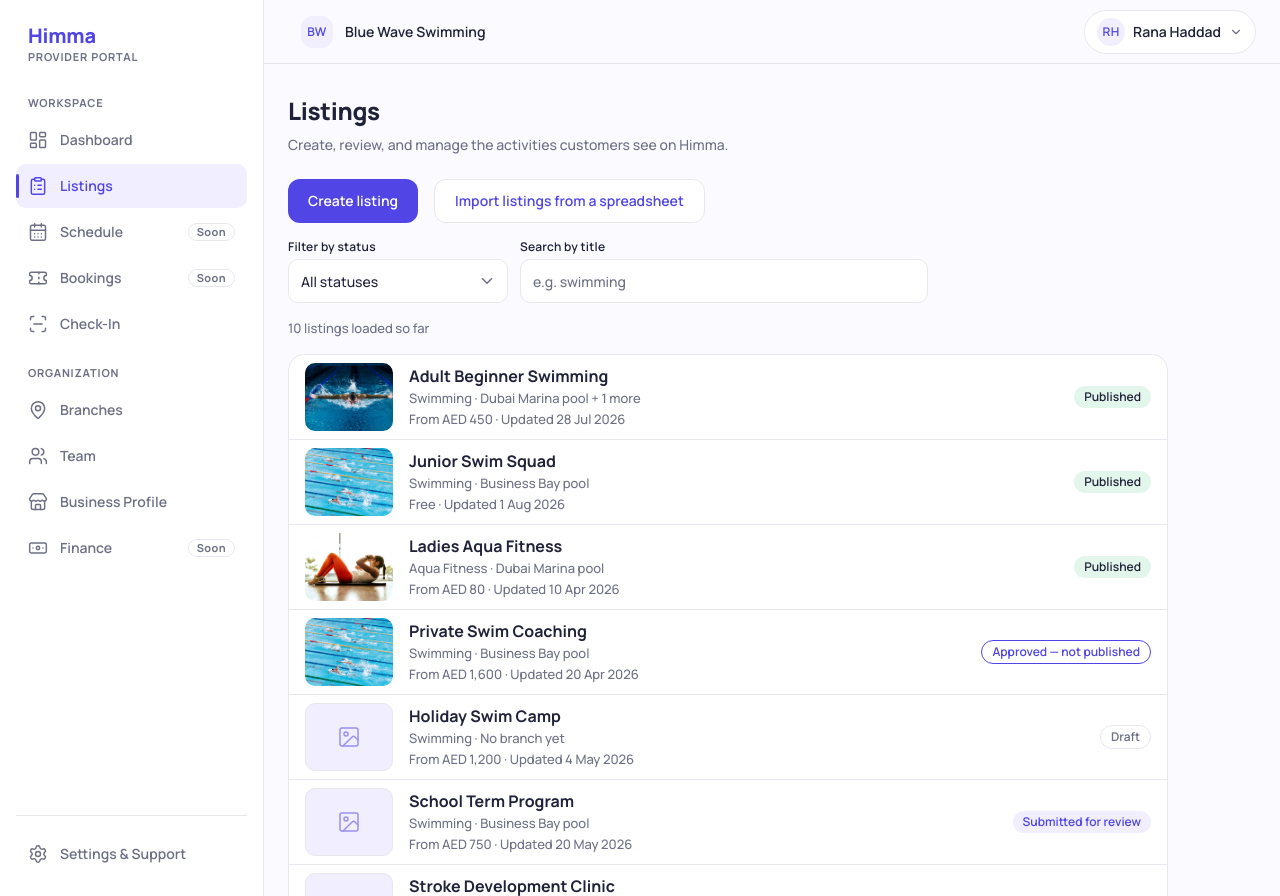
Test case: listings index (W2-7) › index rows navigate to the listing detail
Click the text "Adult Beginner Swimming" at coordinates (509, 376), box x1=409 y1=365 x2=608 y2=387
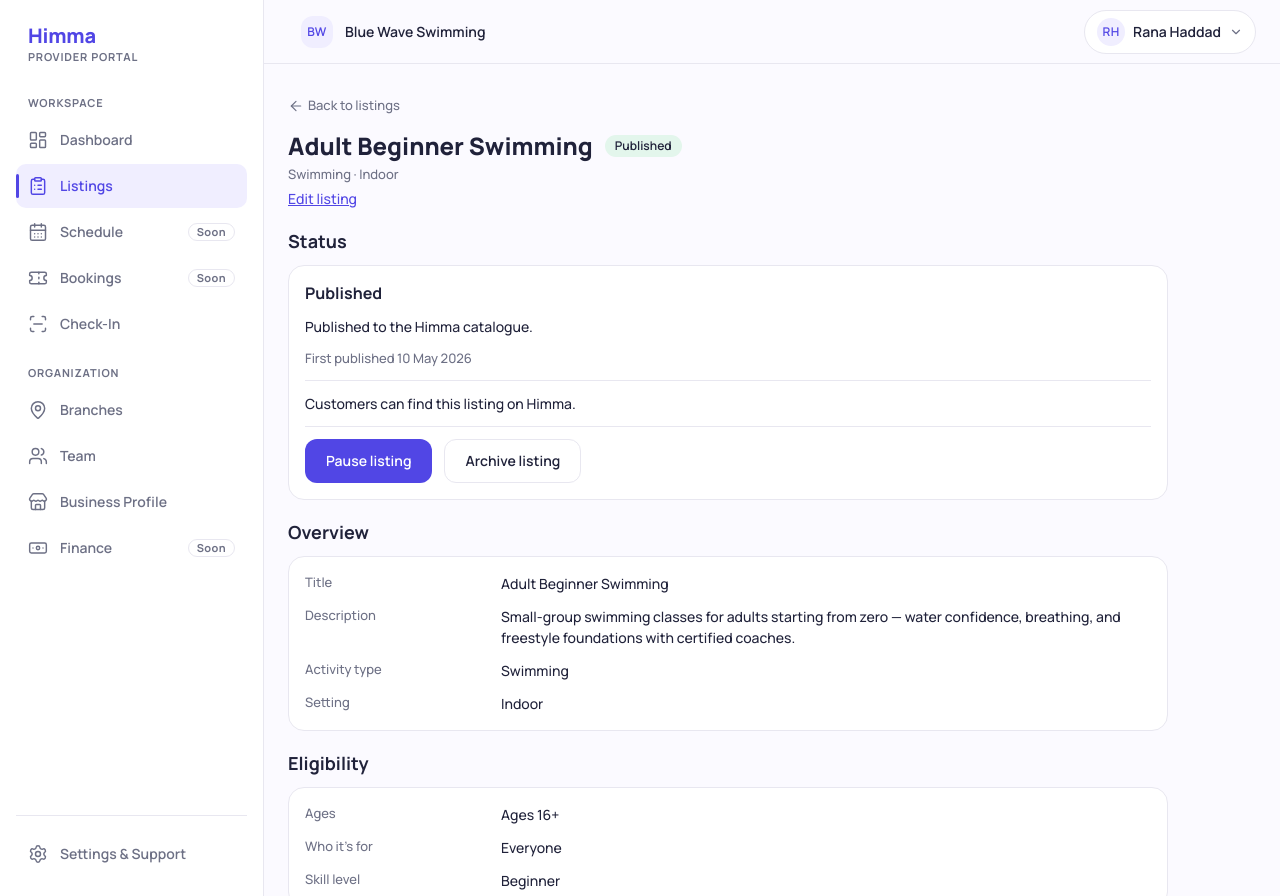
Check: the heading "Adult Beginner Swimming" is shown, box x1=288 y1=130 x2=593 y2=160
Check: the link "Back to listings" is shown, box x1=288 y1=96 x2=400 y2=115
